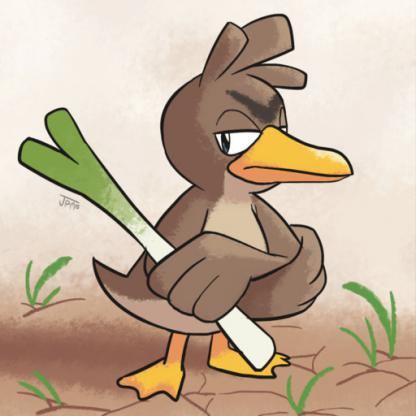Farfetchd: (25, 10, 361, 392)
